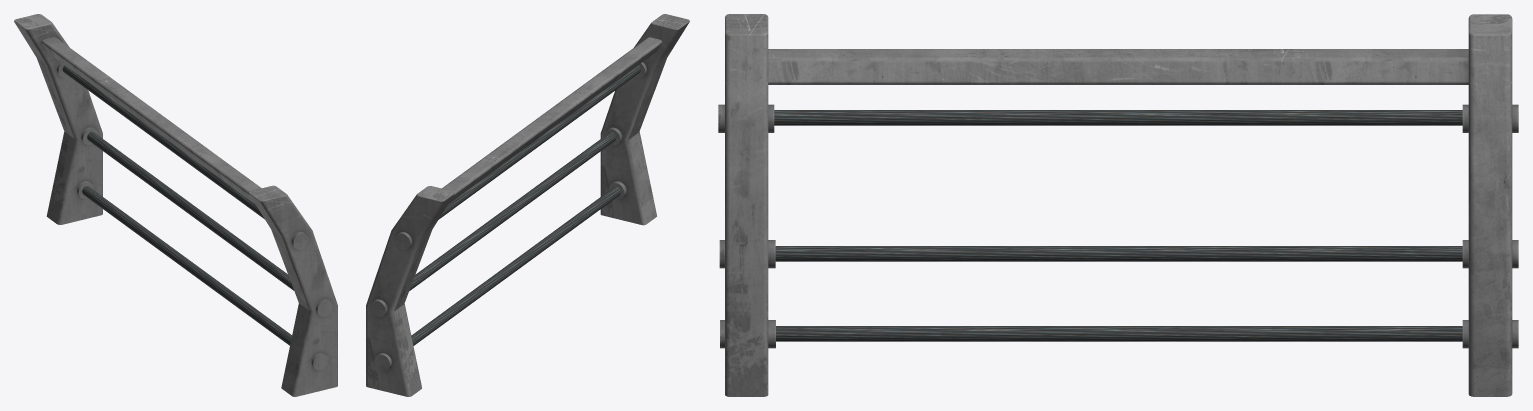
Rendered from railing.fbx.
3 views of the same model, side by side, from view 1: azimuth 30°, elevation 25°; view 2: azimuth 150°, elevation 25°; view 3: azimuth 270°, elevation 25° (orthographic). The views are drawn at different scales.
Parts seen in each view (by area): view 1: pCylinder8, pCylinder7, pCylinder9, pCylinder10, pCylinder11; view 2: pCylinder8, pCylinder7, pCylinder9, pCylinder10, pCylinder11; view 3: pCylinder8, pCylinder7, pCylinder11, pCylinder10, pCylinder9.
Part boxes in pixels (left/top/right/bottom): pCylinder8: left=14, top=14, right=261, bottom=224; pCylinder7: left=248, top=185, right=337, bottom=396; pCylinder9: left=82, top=186, right=291, bottom=345; pCylinder10: left=87, top=132, right=293, bottom=290; pCylinder11: left=62, top=65, right=264, bottom=219; pCylinder8: left=366, top=37, right=662, bottom=396; pCylinder7: left=600, top=14, right=689, bottom=225; pCylinder9: left=411, top=186, right=620, bottom=345; pCylinder10: left=409, top=132, right=616, bottom=290; pCylinder11: left=438, top=65, right=640, bottom=219; pCylinder8: left=768, top=14, right=1518, bottom=396; pCylinder7: left=718, top=14, right=775, bottom=396; pCylinder11: left=774, top=110, right=1462, bottom=125; pCylinder10: left=775, top=246, right=1462, bottom=261; pCylinder9: left=776, top=326, right=1462, bottom=341.
Size of the model in its own units: 55.97 by 140 by 313.
Materials: 1 (1 with a texture image).
